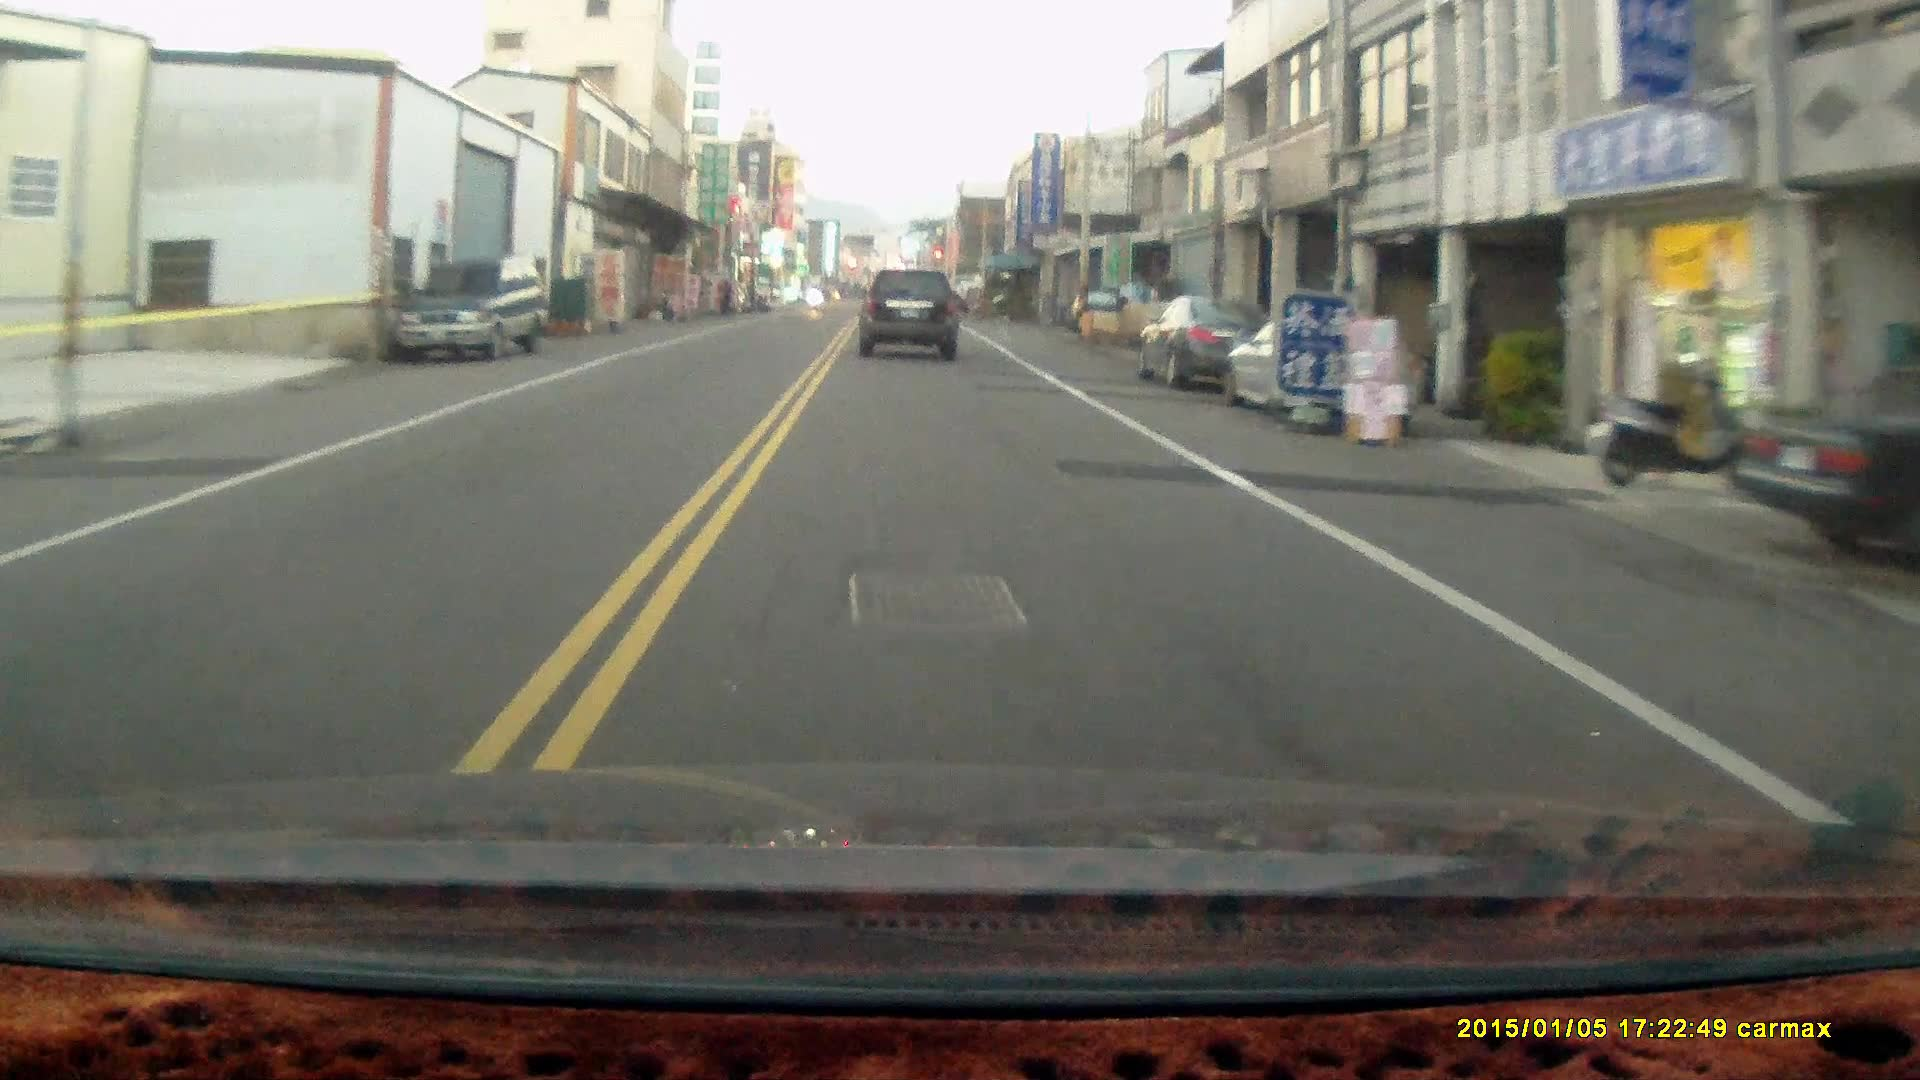vehicle: (1724, 372, 1919, 566), (1222, 319, 1427, 442), (396, 253, 550, 365), (1133, 294, 1287, 392), (858, 269, 961, 363)
